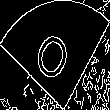O_SW: (32, 22, 78, 88)
